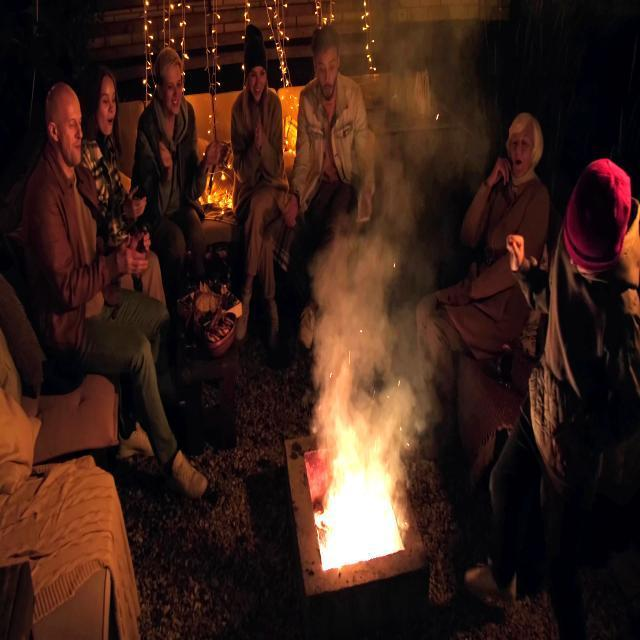Fire: (315, 478, 394, 570)
Smoke: (300, 236, 442, 474), (346, 7, 500, 225)
